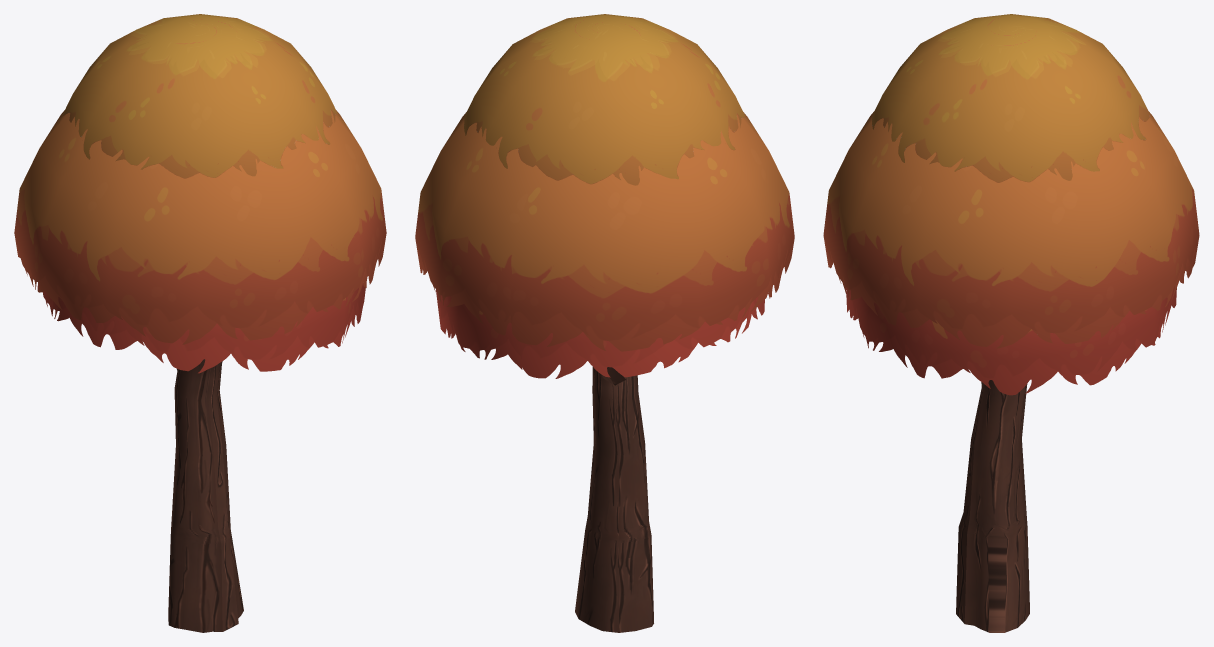
File: Small Tree.FBX
The picture shows the model from 3 angles, left to right: view 1: azimuth 30°, elevation 25°; view 2: azimuth 150°, elevation 25°; view 3: azimuth 270°, elevation 25°; orthographic projection.
Visible parts, largest first — view 1: Small Tree; view 2: Small Tree; view 3: Small Tree.
Boxes of the visible parts, x1,y1,x2,y2 form: Small Tree: (14, 14, 386, 632); Small Tree: (415, 14, 794, 632); Small Tree: (823, 14, 1199, 632).
Bounding box in the file's own units: 22.99 × 39.75 × 22.99.
